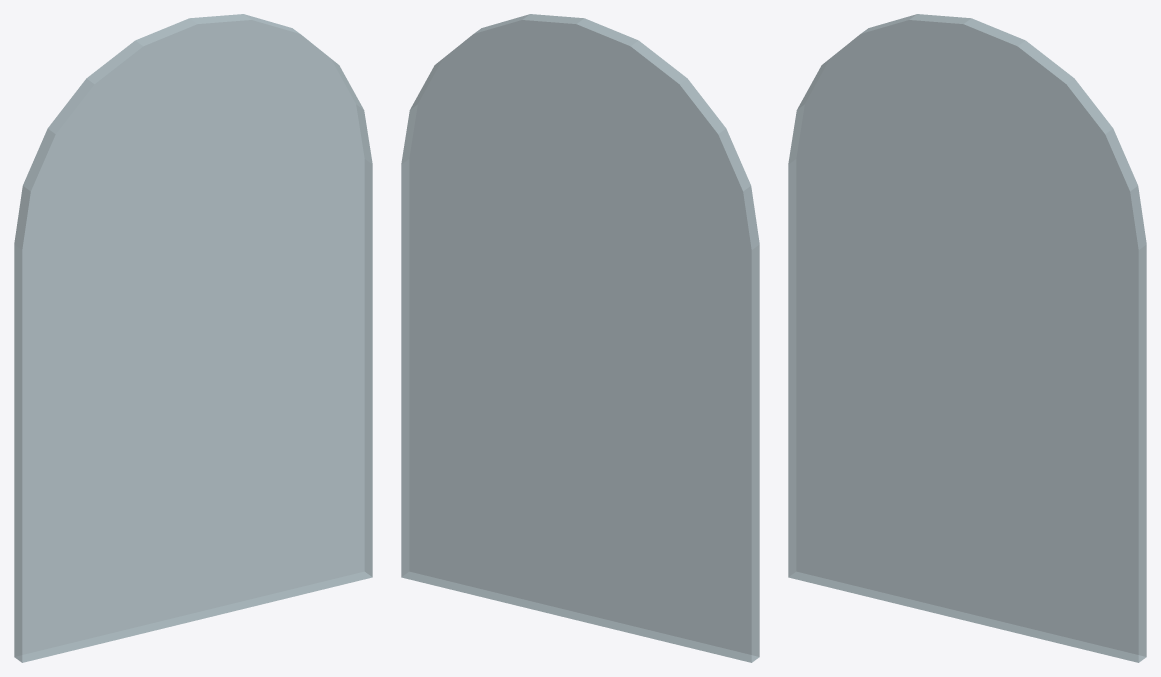
The model's file is pane_archwin.fbx.
3 renders of one model, left to right at view 1: azimuth 30°, elevation 25°; view 2: azimuth 150°, elevation 25°; view 3: azimuth 330°, elevation 25°, orthographic.
Visible parts, largest first — view 1: pane_archwin; view 2: pane_archwin; view 3: pane_archwin.
Part boxes in pixels (x1=…): pane_archwin: x1=14, y1=14, x2=372, y2=662; pane_archwin: x1=401, y1=14, x2=759, y2=662; pane_archwin: x1=788, y1=14, x2=1146, y2=662.
Size of the model in its own units: 400 by 650 by 16.
